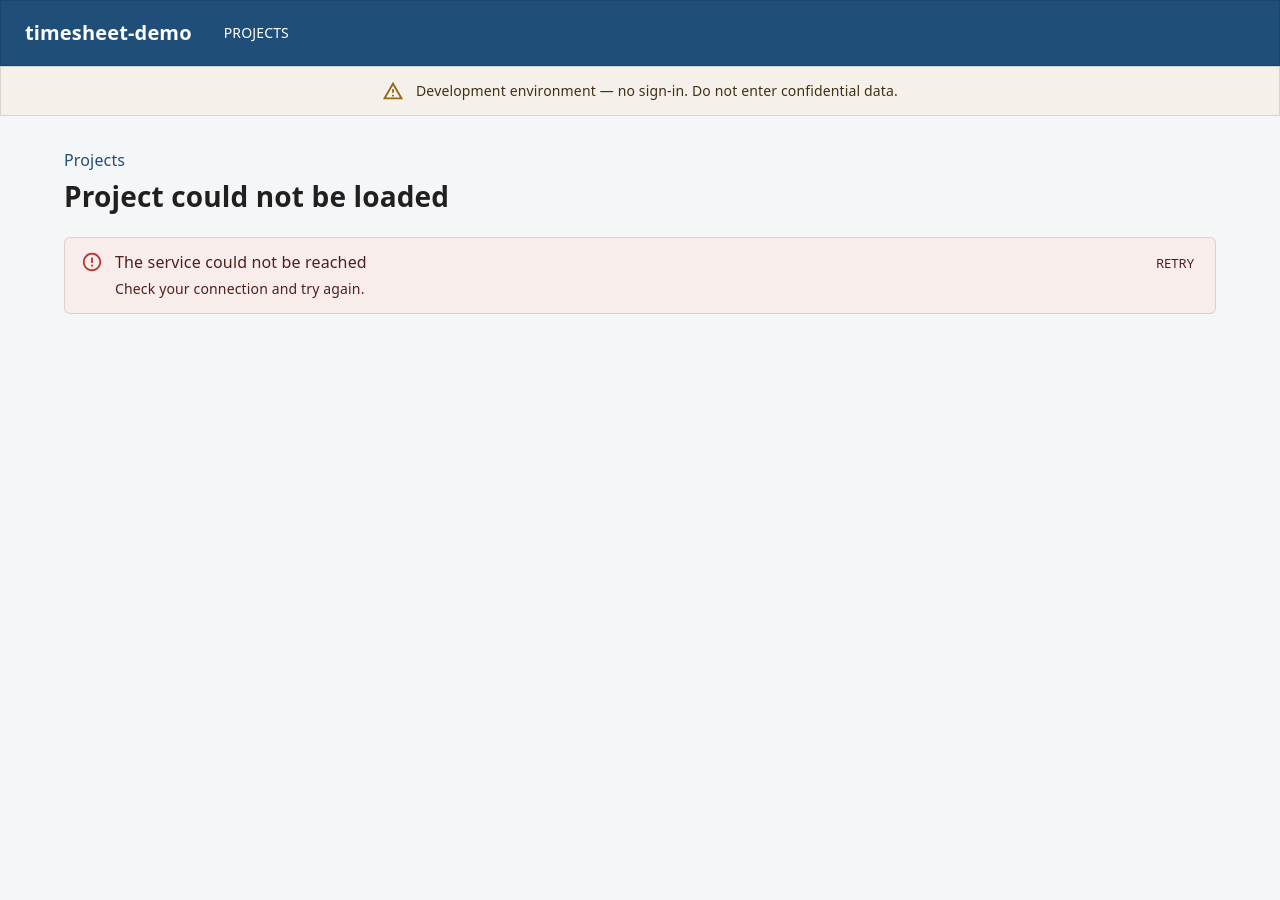
it: ProjectDetailPage › shows an error state and retries on network failure
The image size is (1280, 900).
Check: the text "The service could not be reached" is shown, box x1=115 y1=250 x2=367 y2=274
Click the button "Retry".
click(1175, 263)  # box x1=1143 y1=248 x2=1207 y2=278
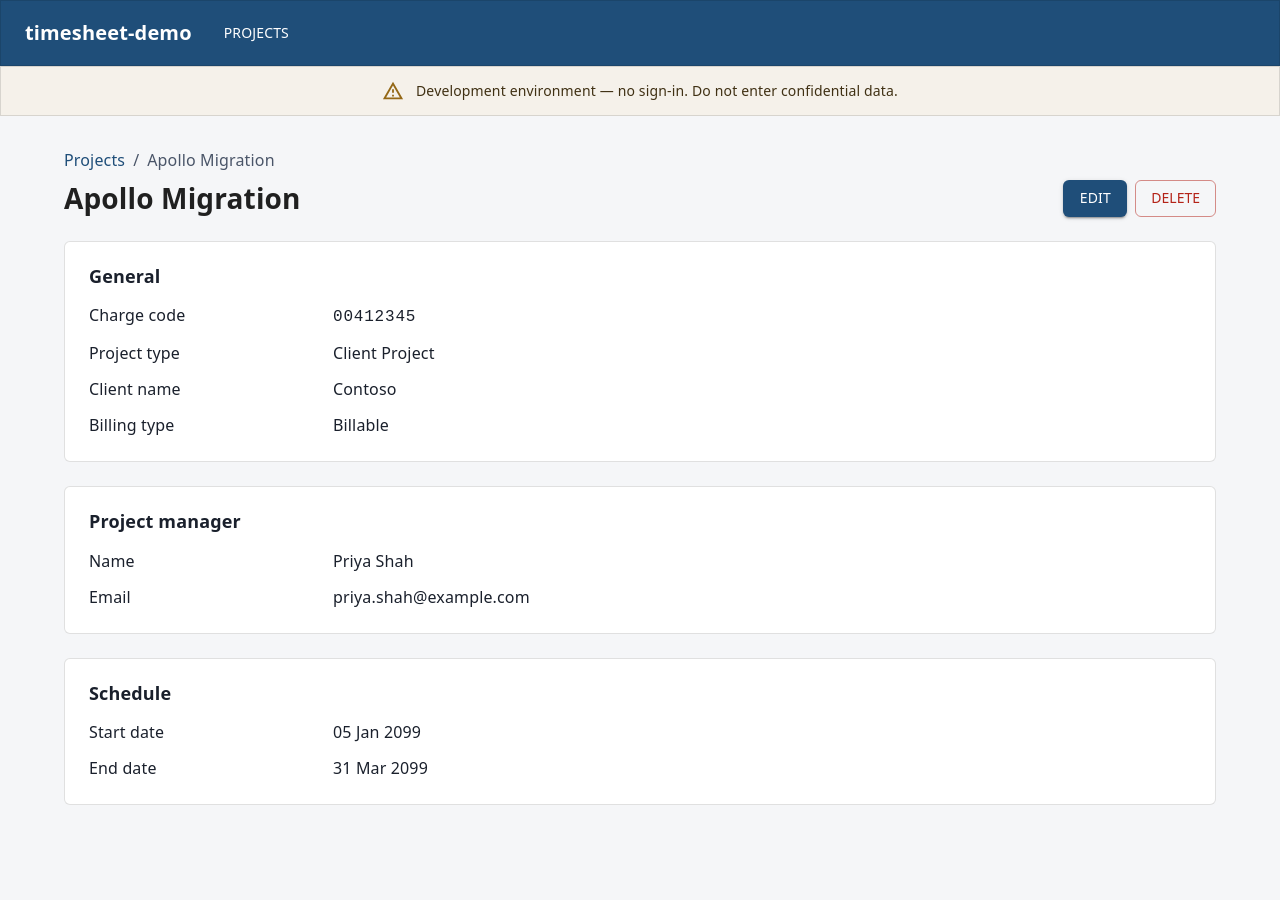
Check: the heading "Apollo Migration" is shown, box x1=64 y1=182 x2=301 y2=215
